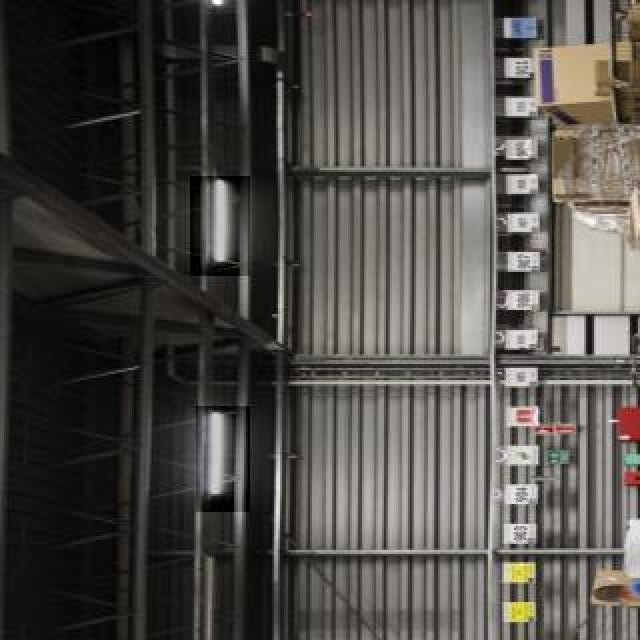fluorescent tube: (198, 174, 255, 274), (197, 400, 246, 513)
